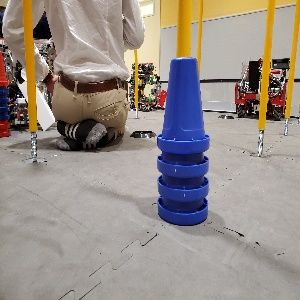Blue_4: (156, 57, 210, 225)
